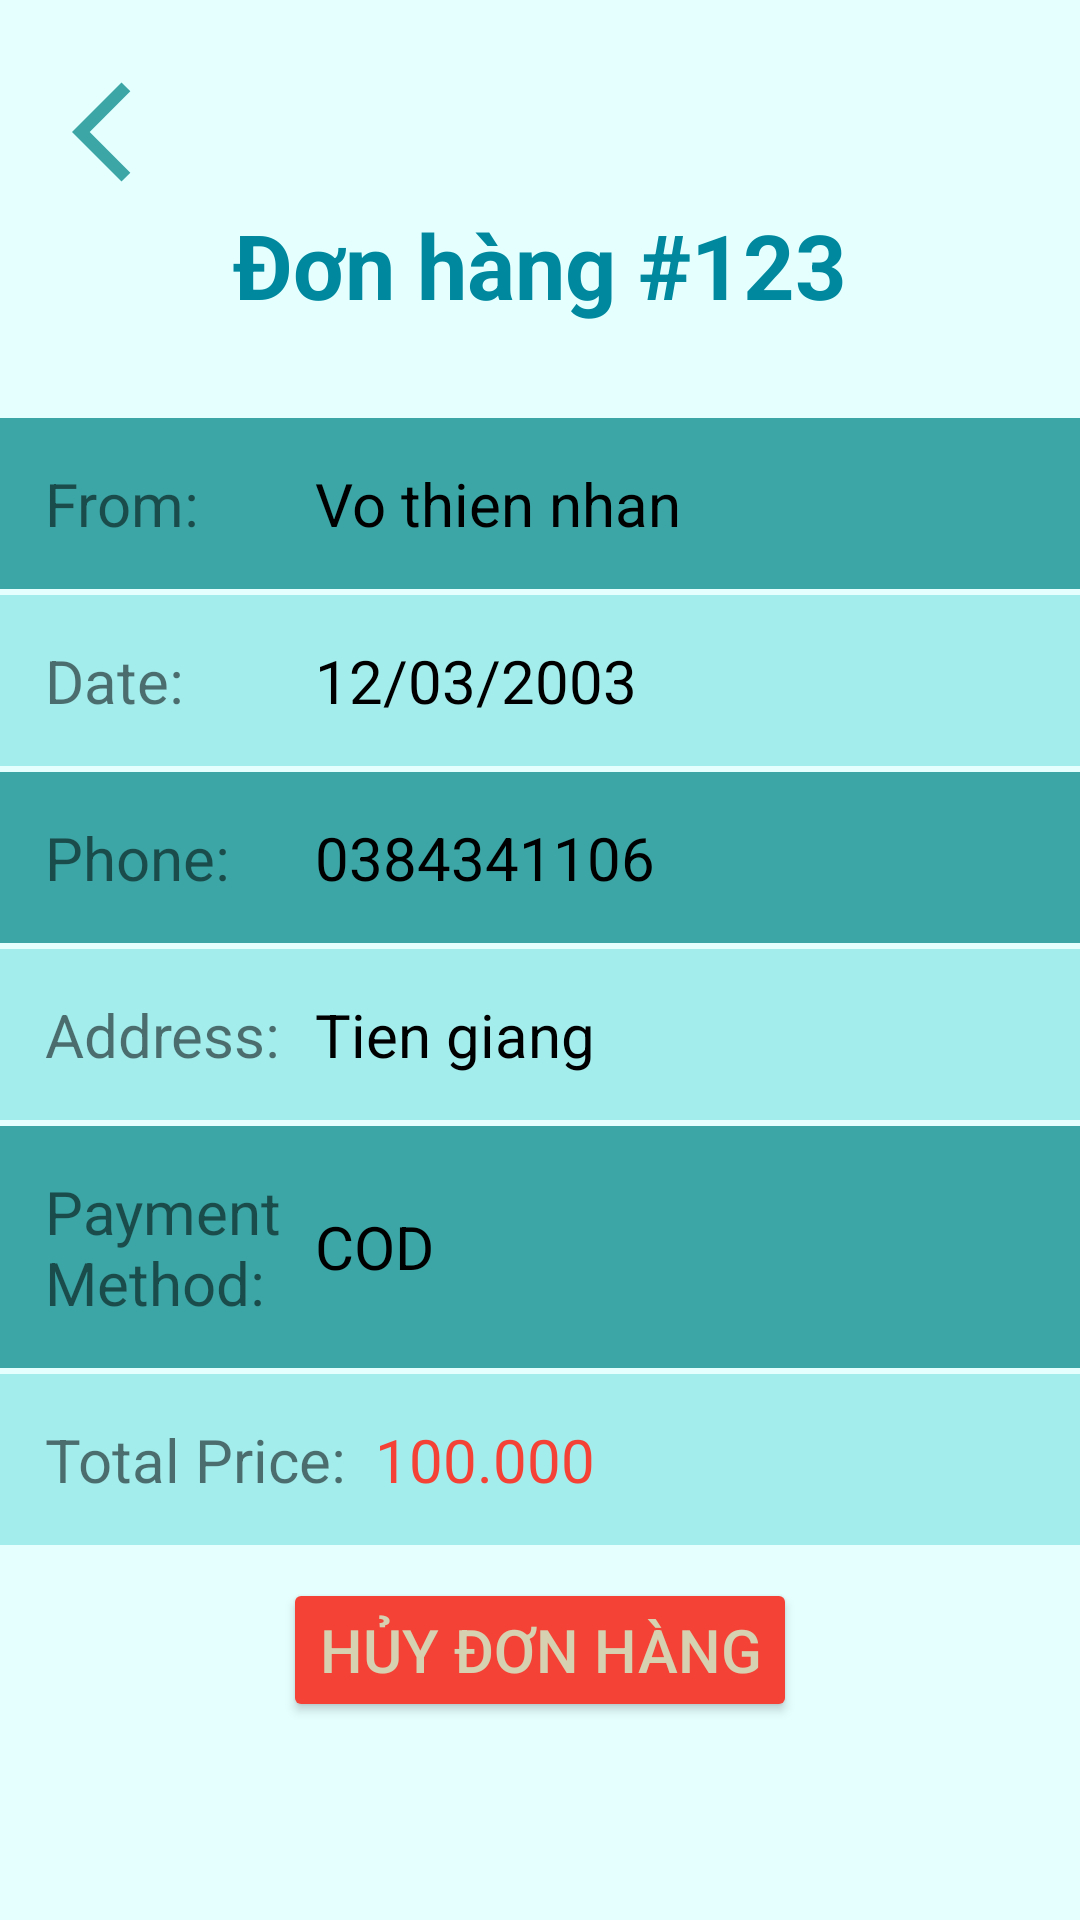

Point at icon controls on the screen. Image size 1080 × 1920, points as point (x, y).
arrow back: point (101, 132)
